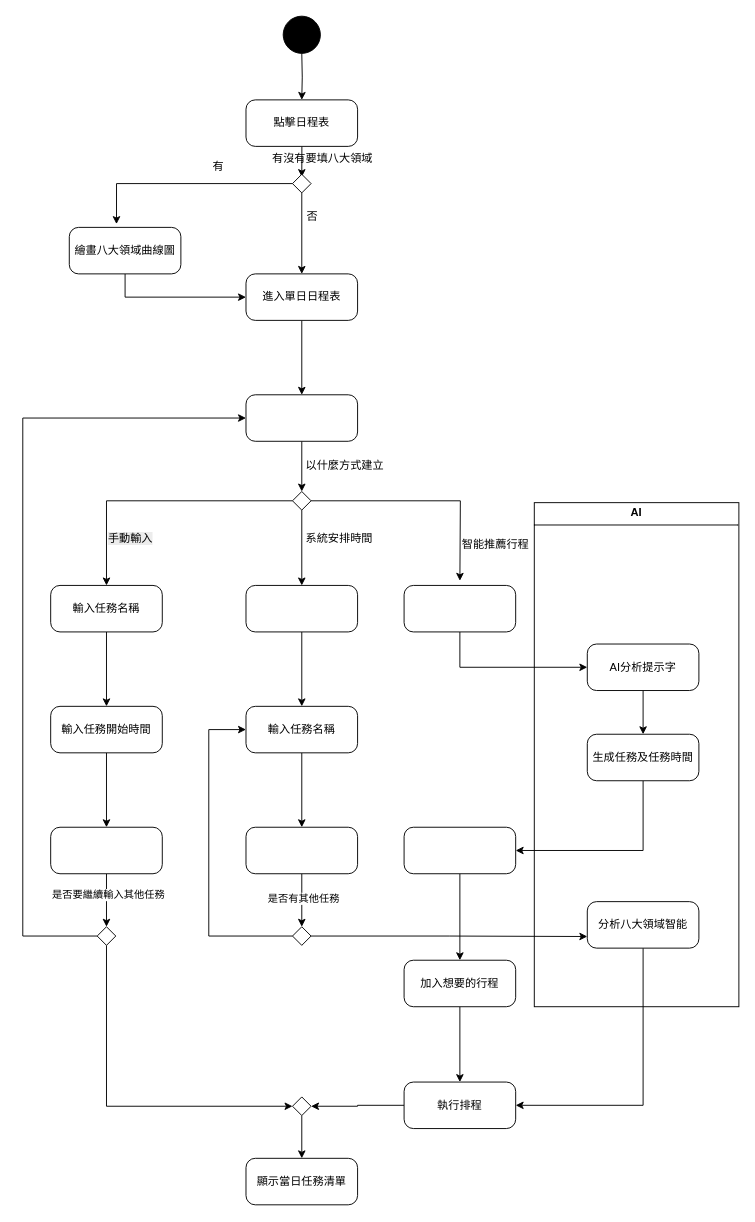
The diagram is 755 pixels wide and 1222 high, and some of its shapes have lost their labels. Here are the shapes that lost their labels. From the top down, the centre of each, then its label:
[301,417]: 建立行程
[301,608]: 輸入任務個數
[459,608]: 輸入想要的目標
[106,850]: 輸入任務結束時間
[301,850]: 輸入任務時長
[459,850]: 顯示推薦的行程
